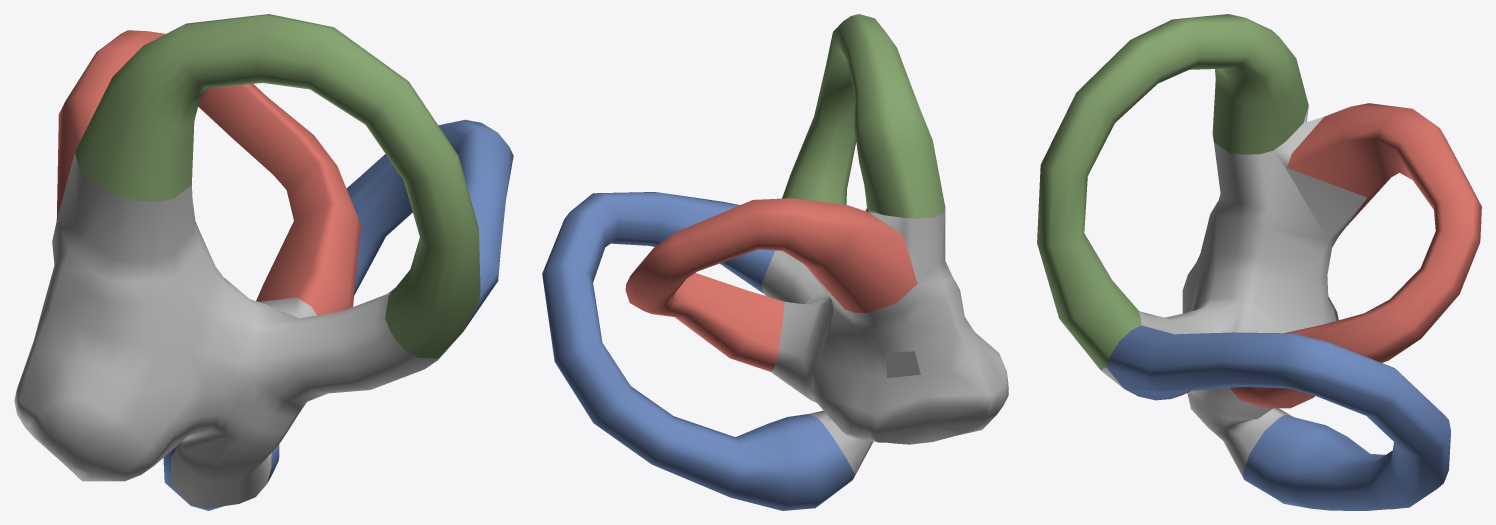
File: inverseEar.glb
3 views of the same model, side by side, from view 1: azimuth 30°, elevation 25°; view 2: azimuth 150°, elevation 25°; view 3: azimuth 270°, elevation 25° (orthographic). The views are drawn at different scales.
Parts seen in each view (by area): view 1: inneEar, canal1, canal3, canal2; view 2: inneEar, canal2, canal3, canal1; view 3: canal2, canal1, inneEar, canal3.
Boxes of the visible parts, x1,y1,x2,y2 form: inneEar: (14,152,461,508); canal1: (75,14,480,358); canal3: (56,30,361,315); canal2: (163,119,513,510); inneEar: (761,208,1008,478); canal2: (542,192,854,510); canal3: (625,198,917,371); canal1: (782,14,945,218); canal2: (1106,325,1450,510); canal1: (1037,14,1308,370); inneEar: (1101,106,1366,478); canal3: (1230,103,1481,408).
Bounding box in the file's own units: 3.65 × 3.74 × 3.14.
